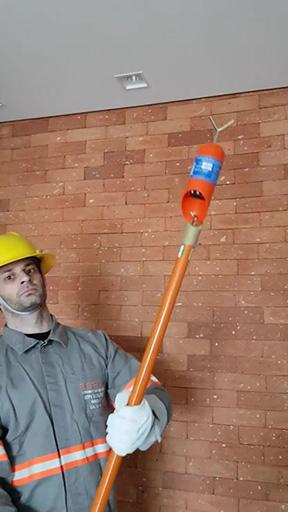Detector_Tensao_Contato: (181, 116, 236, 228)
Vara_Manobra: (90, 224, 204, 512)
